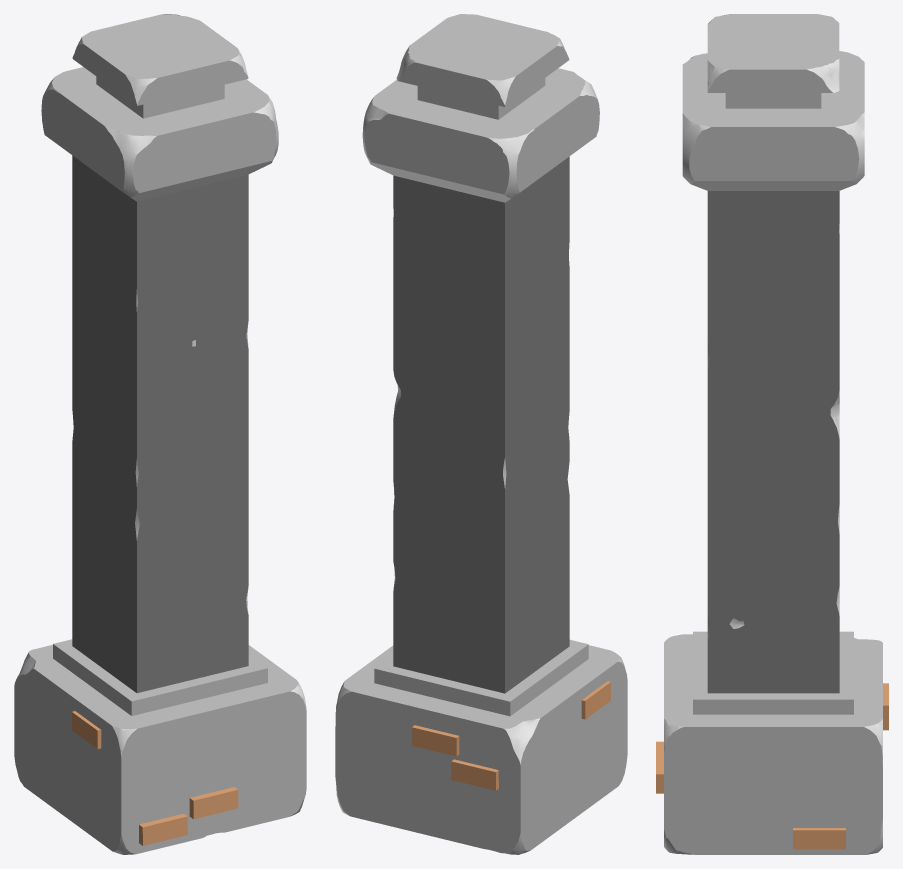
File: column_1.fbx
The picture shows the model from 3 angles, left to right: view 1: azimuth 30°, elevation 25°; view 2: azimuth 150°, elevation 25°; view 3: azimuth 270°, elevation 25°; orthographic projection. The views are drawn at different scales.
Visible parts, largest first — view 1: Cube.044_dmg, Cube.044, Cube.043, Cube.048; view 2: Cube.044_dmg, Cube.045, Cube.046, Cube.048; view 3: Cube.044_dmg, Cube.047.
Part boxes in pixels (<box>): Cube.044_dmg: <box>14,14,306,854</box>; Cube.044: <box>189,787,238,819</box>; Cube.043: <box>139,813,187,845</box>; Cube.048: <box>72,711,101,748</box>; Cube.044_dmg: <box>335,14,627,854</box>; Cube.045: <box>412,725,459,756</box>; Cube.046: <box>451,759,498,790</box>; Cube.048: <box>581,681,610,719</box>; Cube.044_dmg: <box>664,14,882,854</box>; Cube.047: <box>793,828,845,849</box>.
Bounding box in the file's own units: 70.17 × 259 × 71.31.
